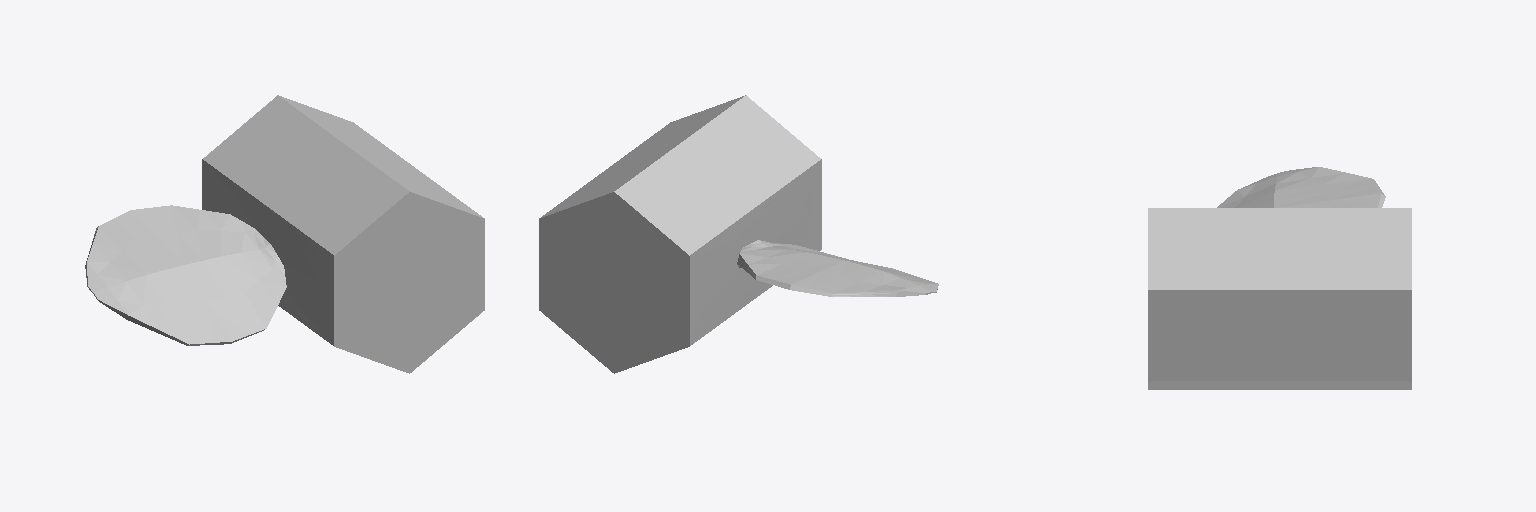
File: vine-whip-segment-leaf.obj
The picture shows the model from 3 angles: view 1: azimuth 30°, elevation 25°; view 2: azimuth 150°, elevation 25°; view 3: azimuth 270°, elevation 25°; orthographic projection.
Visible parts, largest first — view 1: Whip.Segment.Leaf.001; view 2: Whip.Segment.Leaf.001; view 3: Whip.Segment.Leaf.001.
Boxes of the visible parts, x1,y1,x2,y2 form: Whip.Segment.Leaf.001: [85, 95, 484, 373]; Whip.Segment.Leaf.001: [539, 95, 938, 373]; Whip.Segment.Leaf.001: [1148, 167, 1411, 389].
Bounding box in the file's own units: 0.1312 × 0.07 × 0.0918.